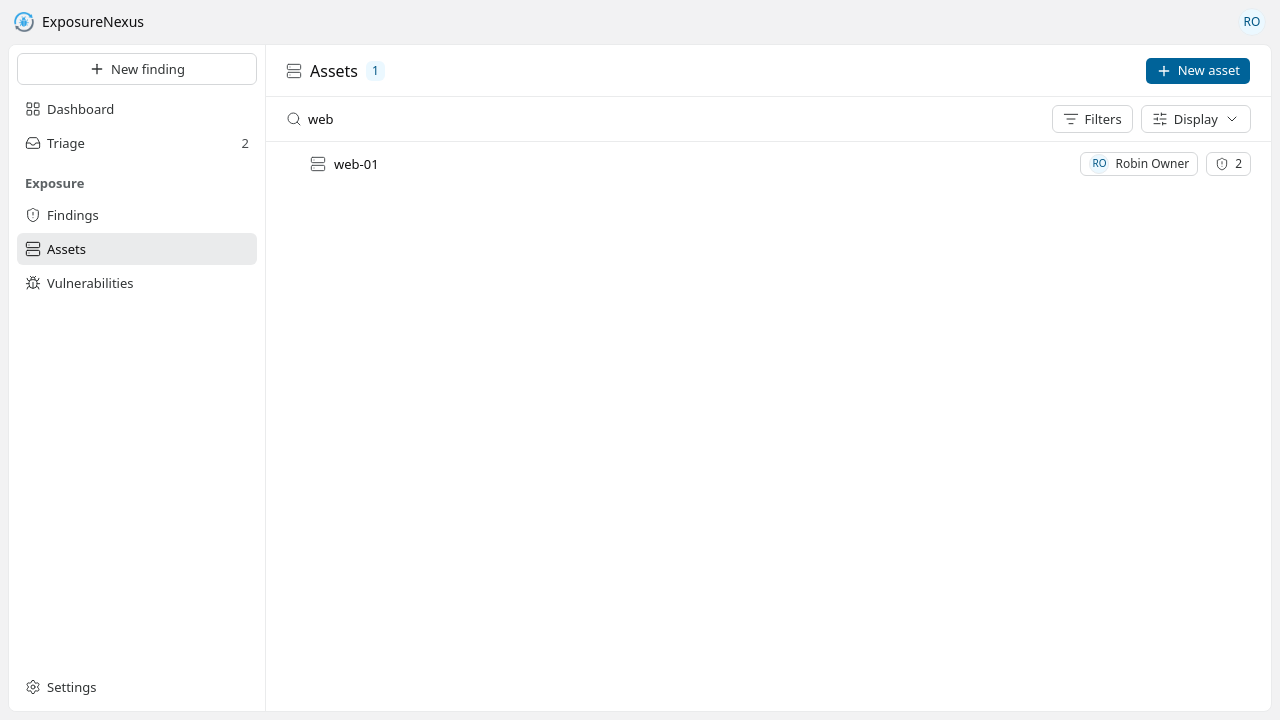
Scenario: settings area › goes back to the page Settings was opened from, filters included
Click the link "Settings" at (61, 687), box 25,678 -> 96,696
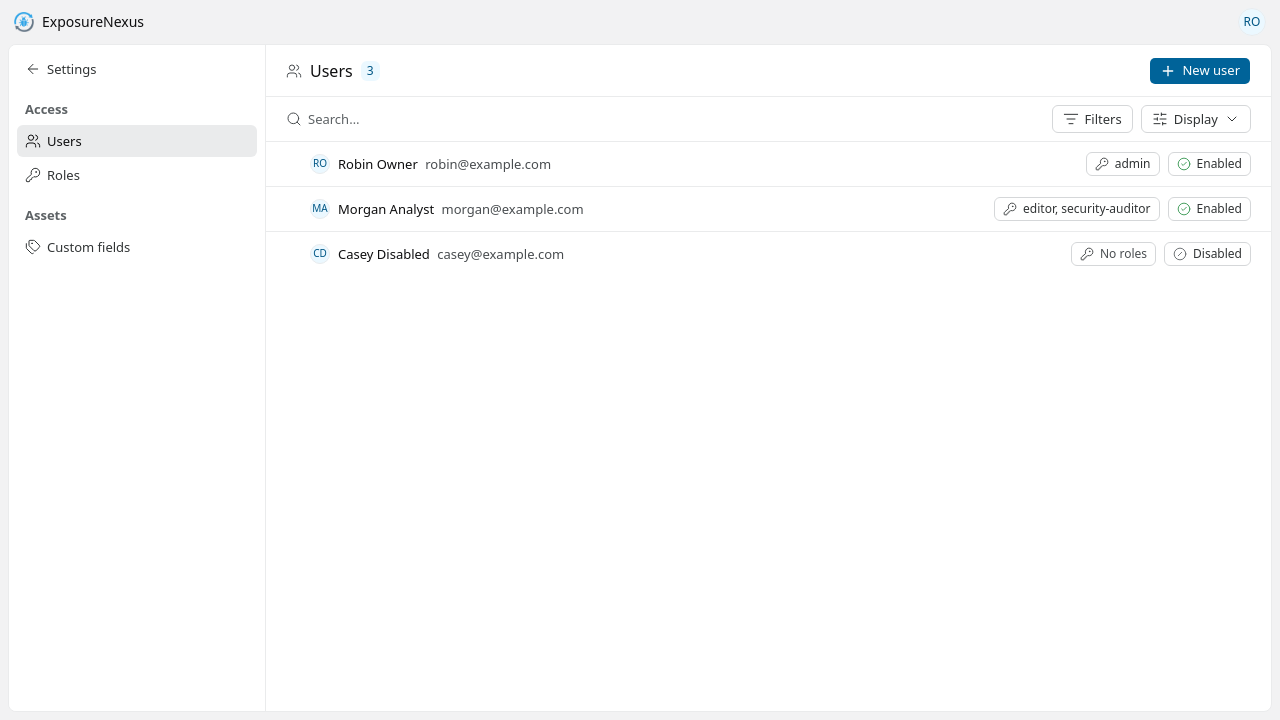
Click the link "Roles" at (52, 175), box 25,166 -> 80,184
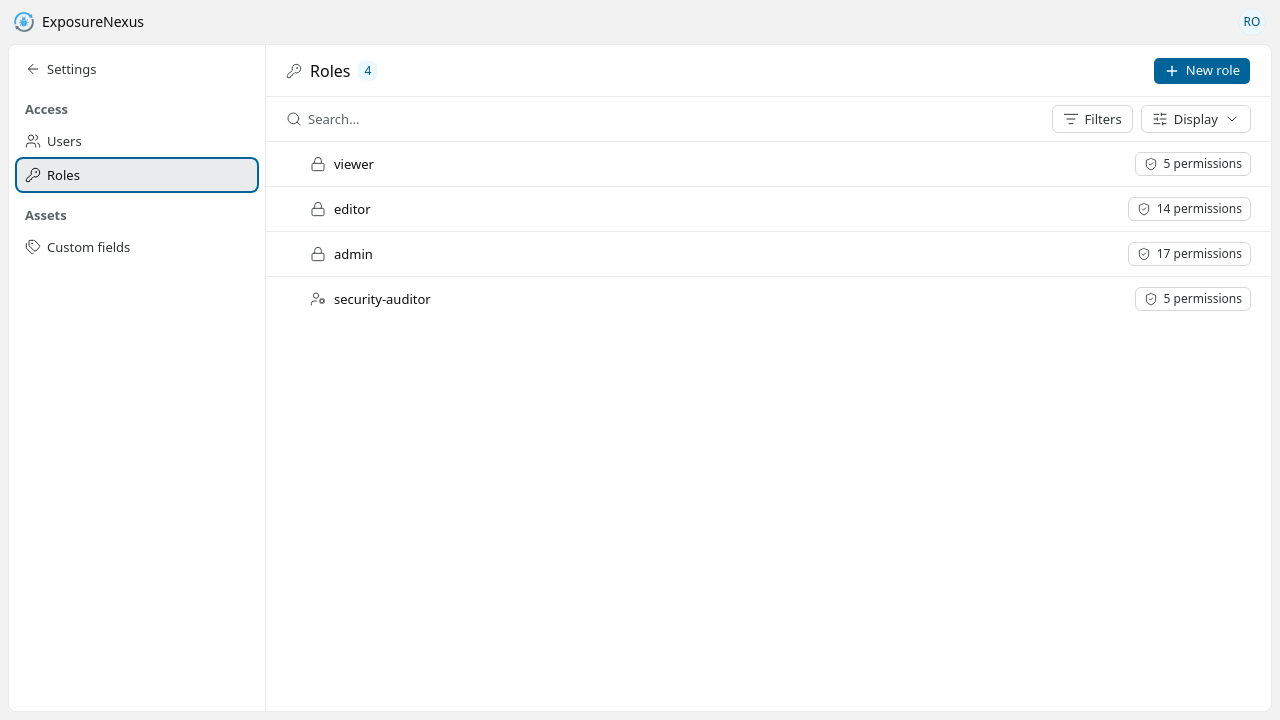
Expected: the heading "Roles" is shown, 310,58 -> 350,82
Click the link with aria-label "Leave settings" at (61, 69), box 25,60 -> 96,78
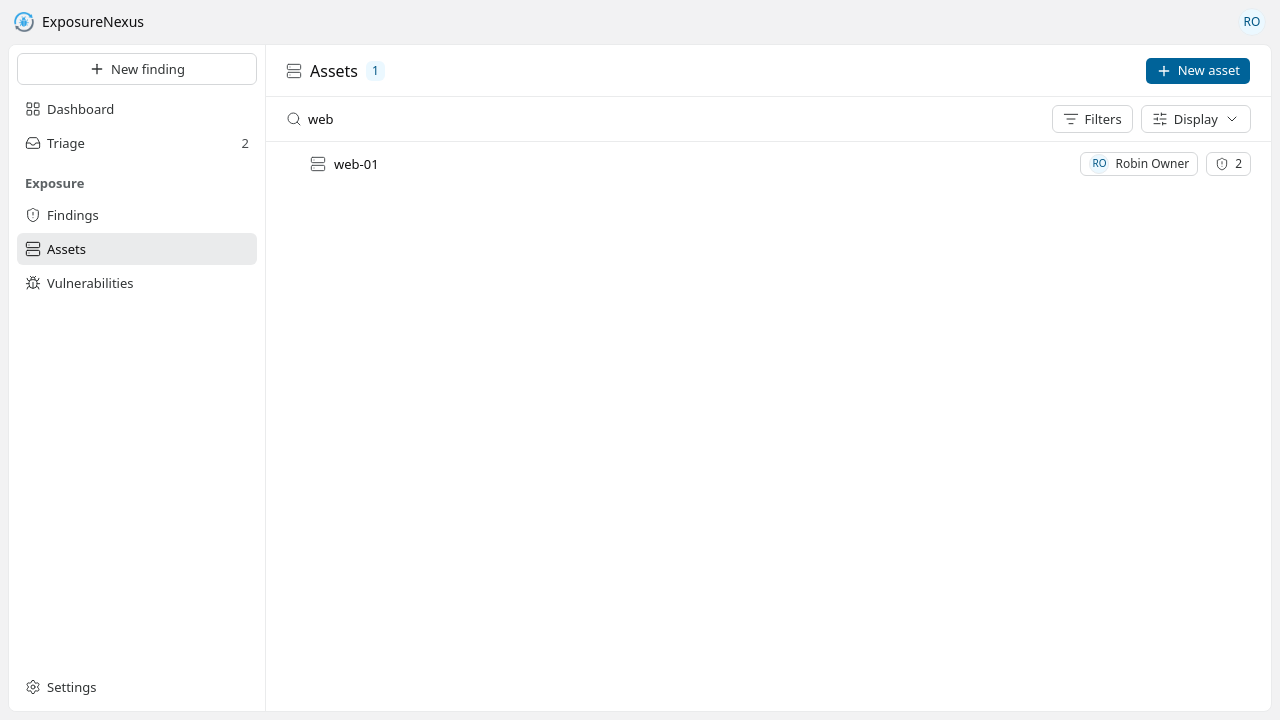
Expected: the link "Settings" is shown, 25,678 -> 96,696
Expected: the heading "Assets" is shown, 310,58 -> 358,82
